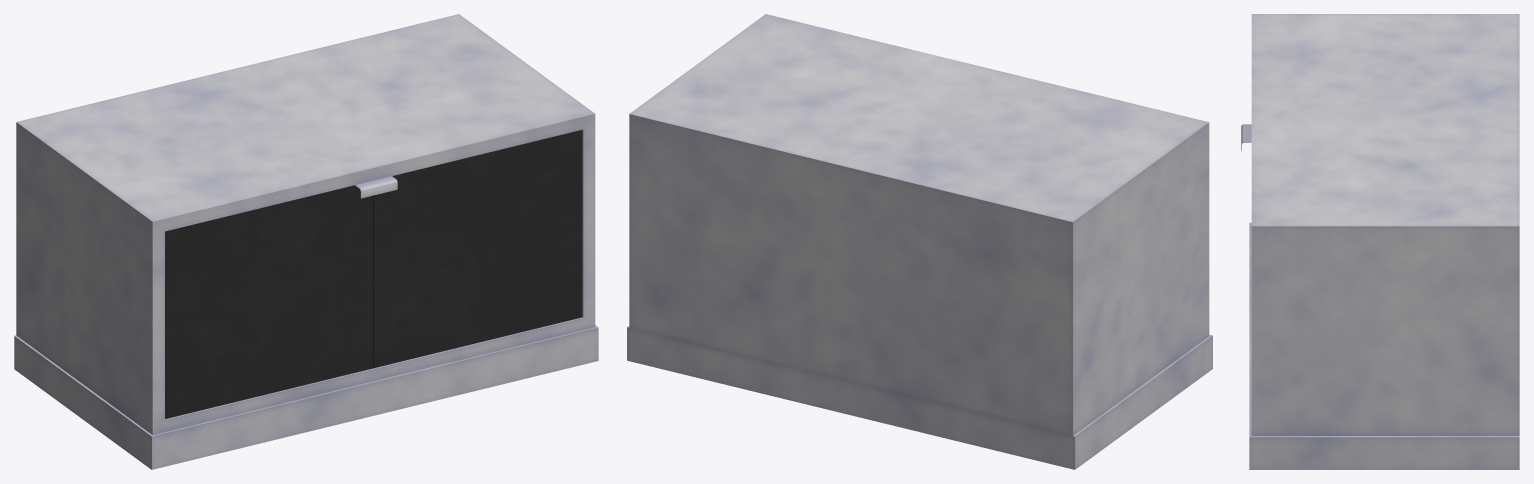
The model's file is LC_3082_Sink_Shelf_LOD2.fbx.
The picture shows the model from 3 angles, left to right: view 1: azimuth 30°, elevation 25°; view 2: azimuth 150°, elevation 25°; view 3: azimuth 270°, elevation 25°; orthographic projection.
Visible parts, largest first — view 1: LC_3082_Sink_Shelf_LOD2; view 2: LC_3082_Sink_Shelf_LOD2; view 3: LC_3082_Sink_Shelf_LOD2.
Part boxes in pixels (bbox=[...]): LC_3082_Sink_Shelf_LOD2: bbox=[14, 14, 598, 469]; LC_3082_Sink_Shelf_LOD2: bbox=[627, 14, 1212, 469]; LC_3082_Sink_Shelf_LOD2: bbox=[1241, 14, 1519, 469].
Bounding box in the file's own units: 151 × 79.87 × 83.15.
1 material, 1 textured.
